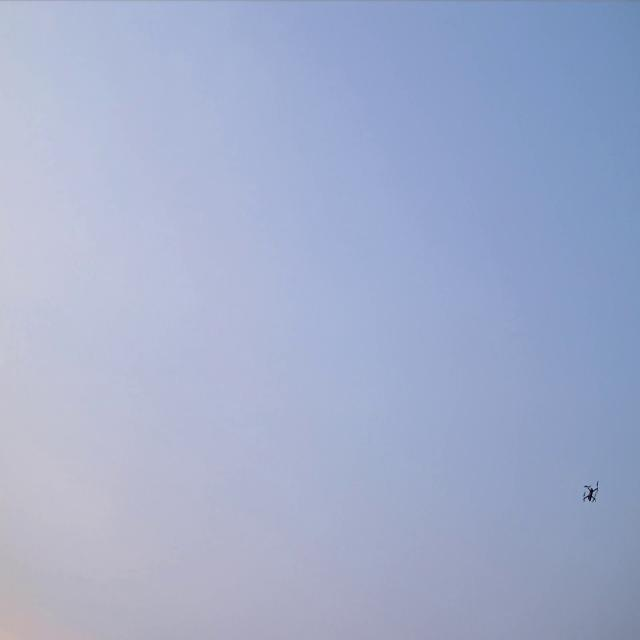UAV: (584, 484, 598, 501)
